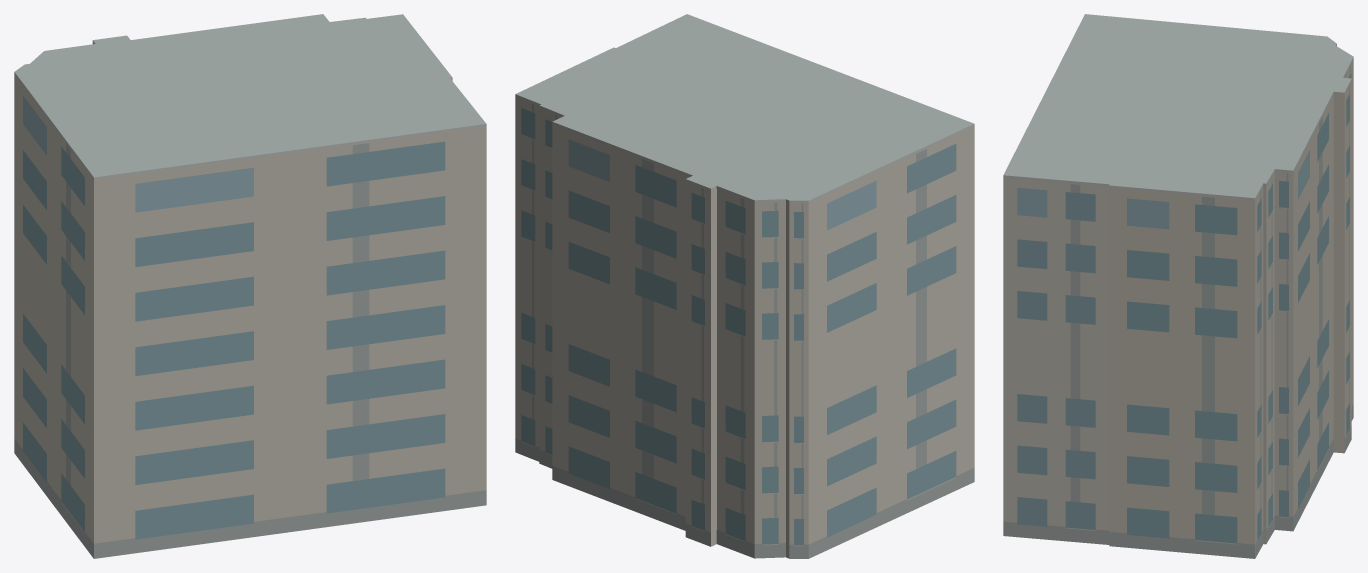
File: survey-upis-33039008.glb
The picture shows the model from 3 angles, left to right: view 1: azimuth 30°, elevation 25°; view 2: azimuth 150°, elevation 25°; view 3: azimuth 270°, elevation 25°; orthographic projection. The views are drawn at different scales.
Parts seen in each view (by area): view 1: survey-upis-33039008.tmp; view 2: survey-upis-33039008.tmp; view 3: survey-upis-33039008.tmp.
Part boxes in pixels (left/top/right/bottom): survey-upis-33039008.tmp: left=14, top=14, right=486, bottom=558; survey-upis-33039008.tmp: left=515, top=14, right=974, bottom=558; survey-upis-33039008.tmp: left=1003, top=14, right=1353, bottom=558.
Bounding box in the file's own units: 31.87 × 29.1 × 25.63.
